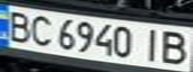0: (112, 24, 136, 60)
4: (93, 21, 115, 56)
6: (51, 16, 78, 52)
9: (72, 19, 96, 54)
B: (157, 28, 193, 66), (3, 8, 36, 43)
C: (24, 12, 57, 47)
I: (136, 26, 166, 63)
